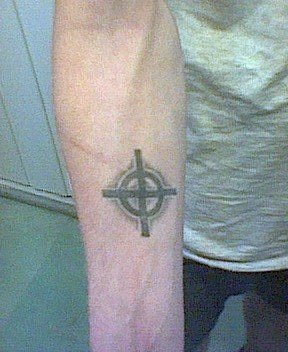tatu9_krest: (98, 142, 181, 243)
